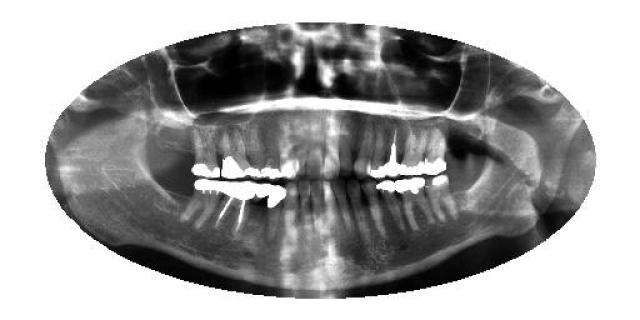Fillings: (181, 176, 220, 229), (397, 178, 435, 232), (424, 175, 460, 224), (188, 130, 222, 176), (375, 180, 405, 231), (220, 130, 250, 180), (422, 128, 450, 178), (404, 128, 430, 178), (266, 184, 286, 238), (368, 136, 388, 179), (262, 140, 282, 180), (248, 180, 268, 209), (249, 136, 261, 178)
Implant: (219, 176, 249, 230), (383, 128, 402, 178)
